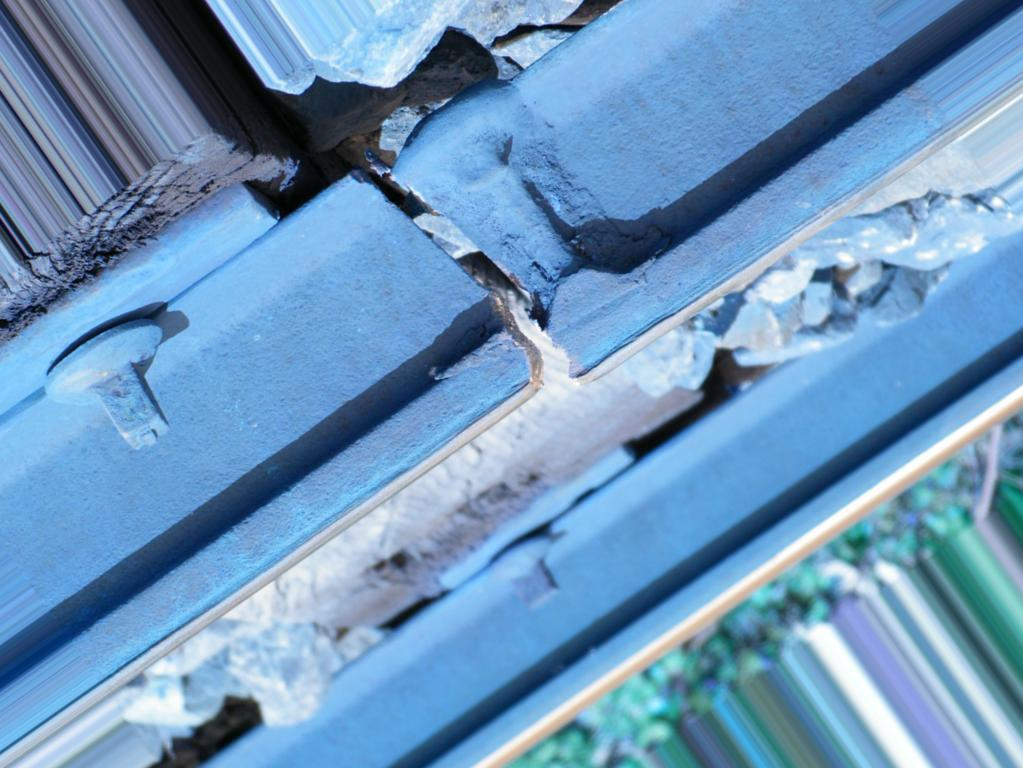railway-gap: (273, 79, 680, 468)
